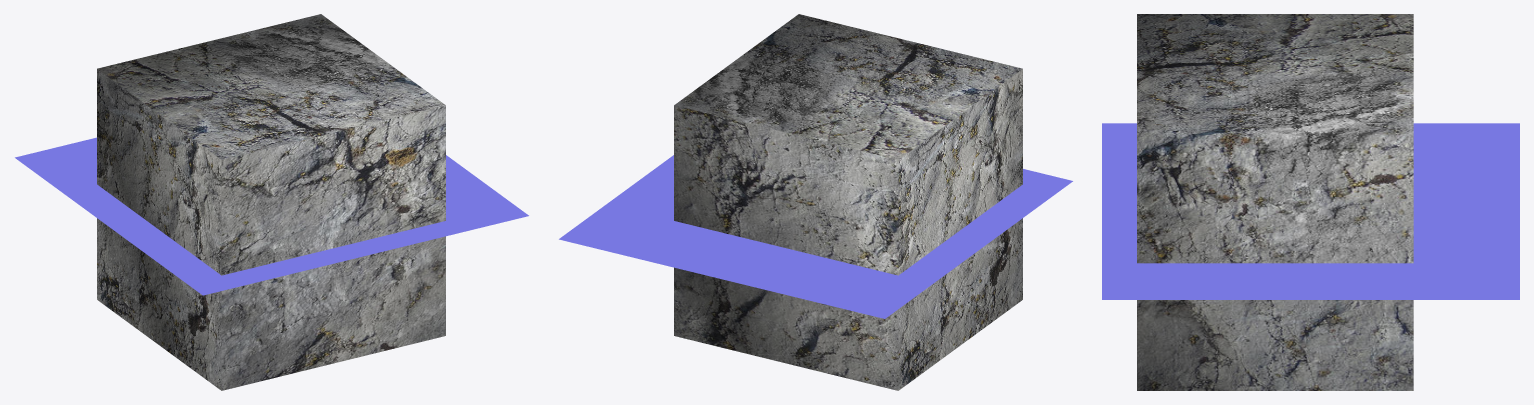
The model's file is sky.obj.
3 views of the same model, side by side, from view 1: azimuth 30°, elevation 25°; view 2: azimuth 150°, elevation 25°; view 3: azimuth 270°, elevation 25° (orthographic). The views are drawn at different scales.
Bounding box in the file's own units: 200 × 135 × 200.
2 materials, 2 textured.
